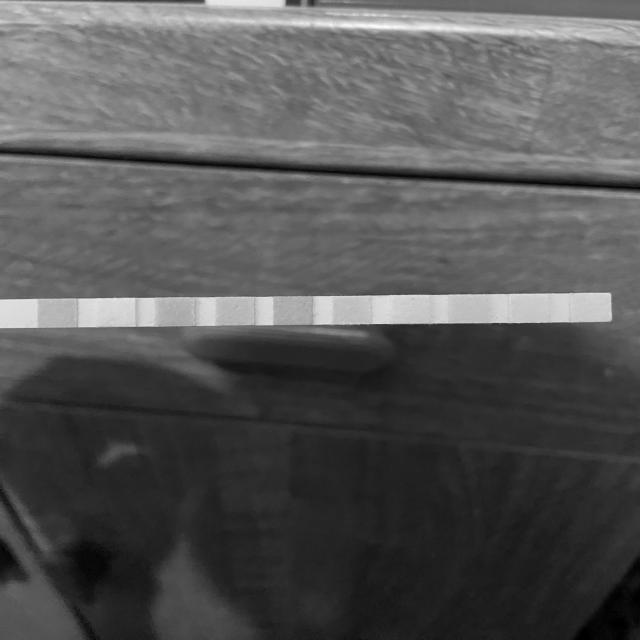Bilirubin: (100, 299, 136, 326)
Blood: (275, 297, 312, 324)
Glucose: (39, 300, 76, 327)
Ketone: (158, 298, 194, 326)
Leukocytes: (572, 294, 608, 321)
Nitrite: (511, 295, 548, 322)
Protein: (392, 296, 429, 322)
SpGravity: (217, 298, 253, 324)
Urobilinogen: (450, 295, 487, 322)
background: (0, 0, 640, 640)
pH: (334, 297, 370, 324)
strip: (1, 293, 612, 328)
